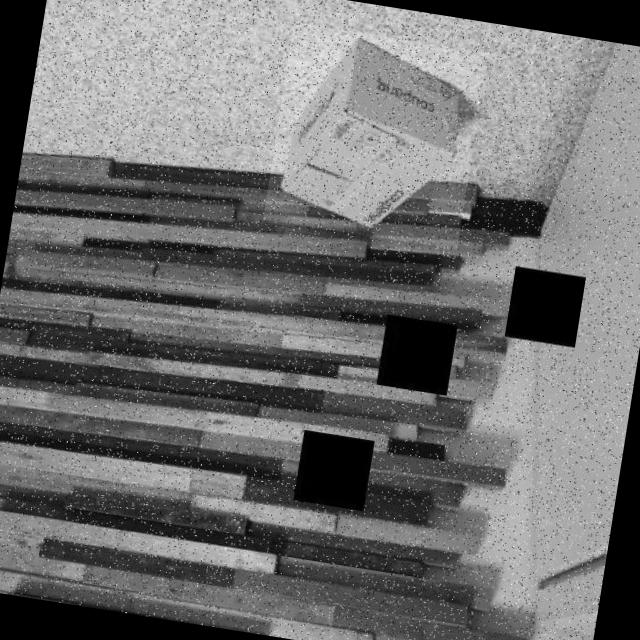box: (263, 23, 488, 250)
